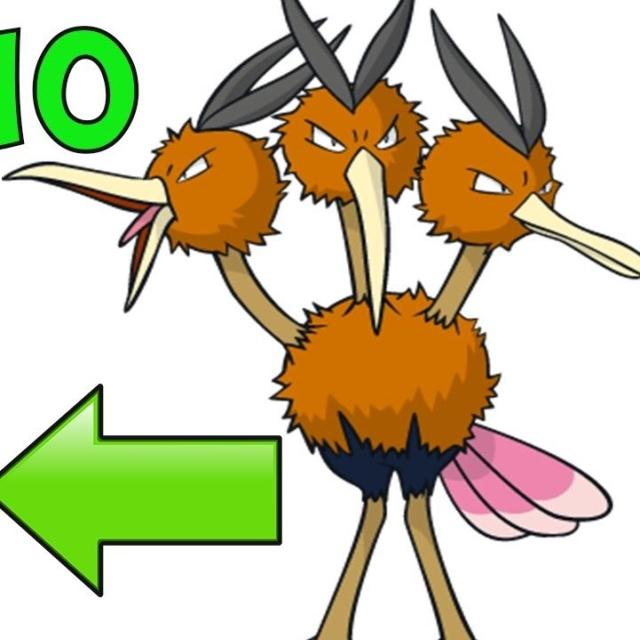Dodrio: (139, 25, 595, 640)
